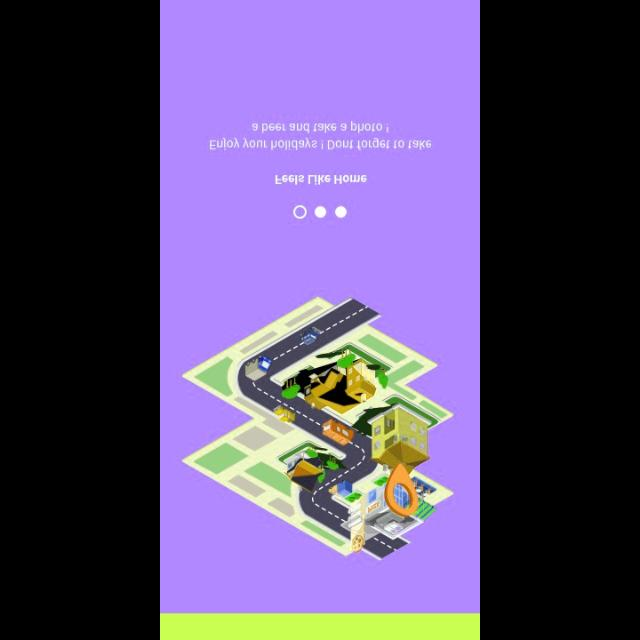image: (182, 295, 454, 561)
pageindicator: (293, 203, 349, 220)
text: (209, 119, 433, 151), (274, 174, 368, 186)
